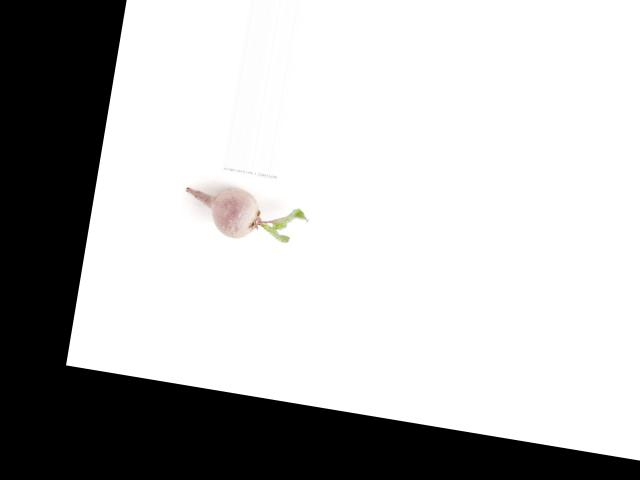beet: (181, 180, 312, 249)
